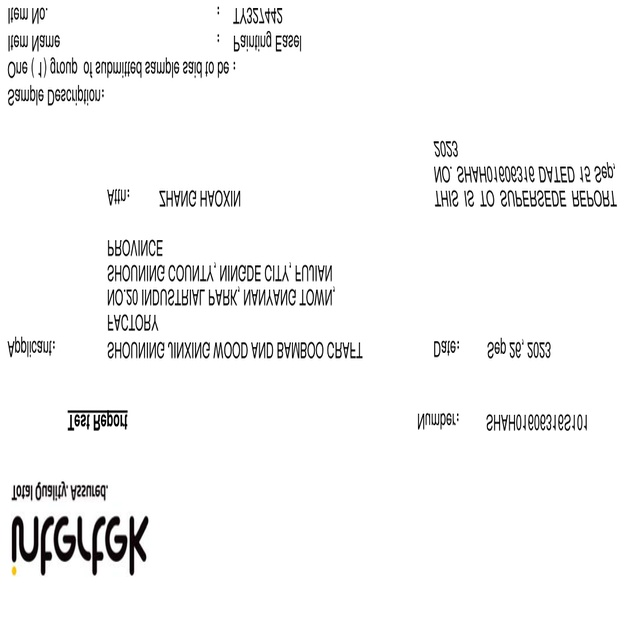intertek: (9, 509, 149, 578)
